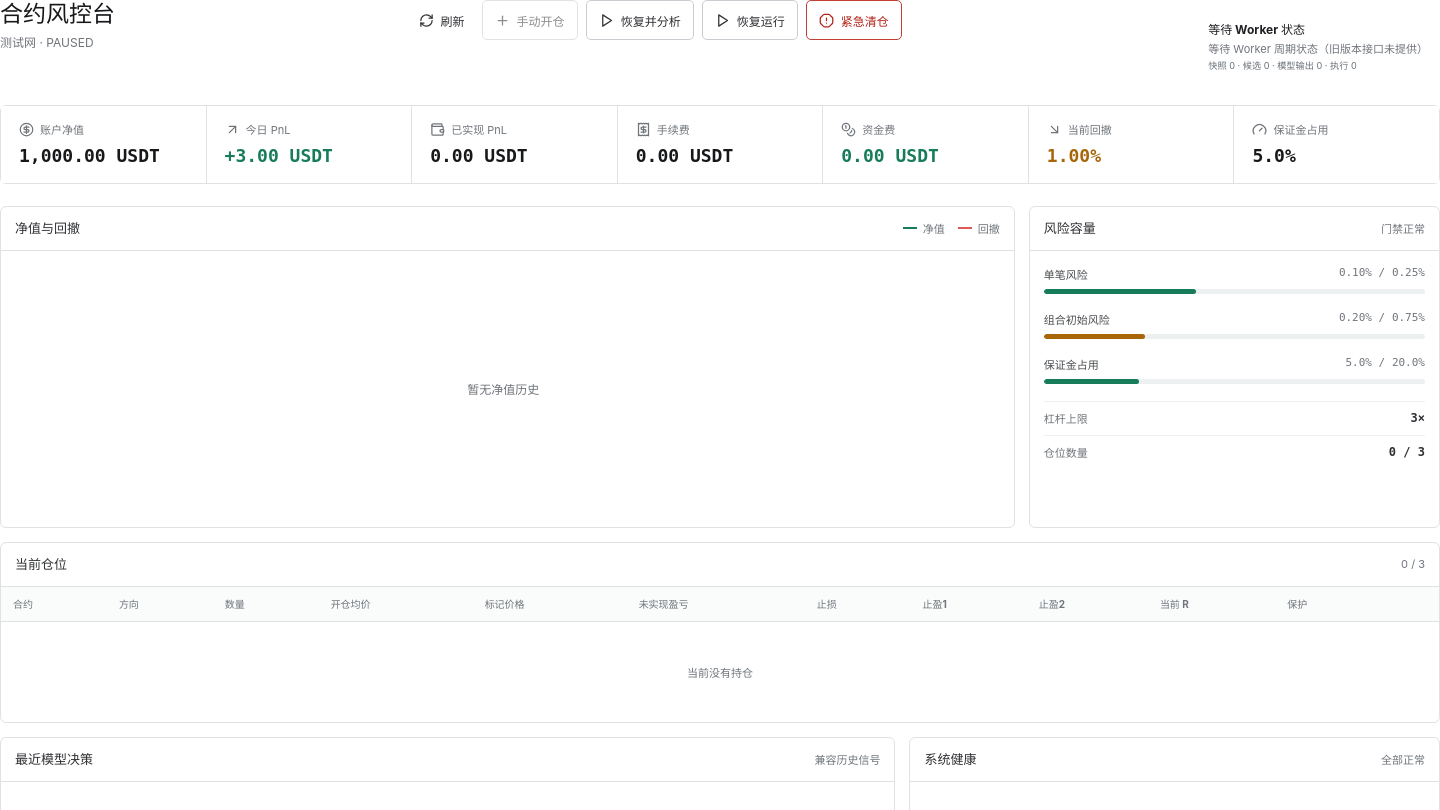
Test: DashboardPage › requires the operator password to resume testnet execution
This screenshot has width=1440, height=810.
Click the button "恢复运行" at (750,20), box [702,0,798,40]
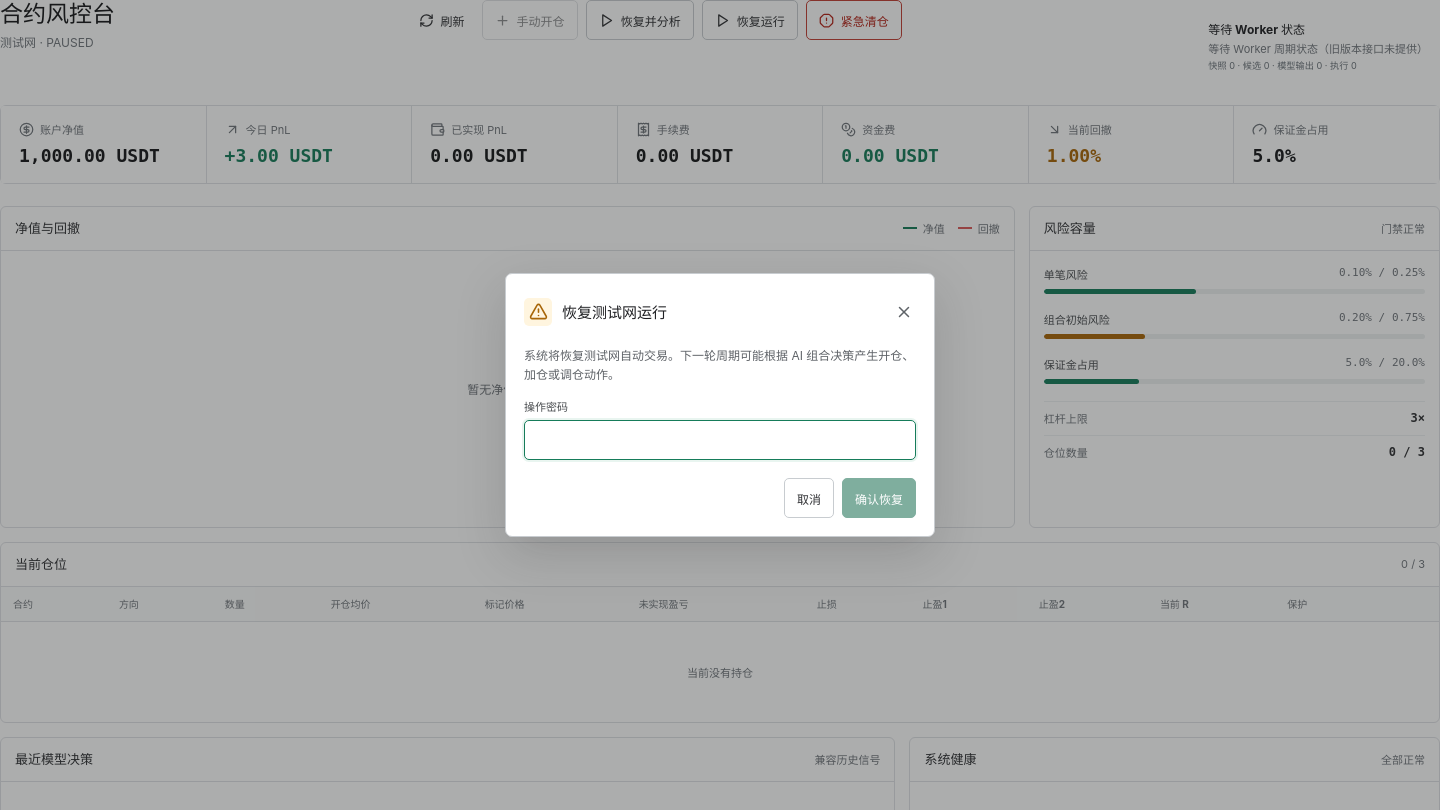
Expected: the dialog "恢复测试网运行" is shown, [505,273,935,537]
Expected: the button "确认恢复" is disabled, [842,478,916,518]
Type "operator-password" into the password field labelled "操作密码" at (720,440), box [524,420,916,460]
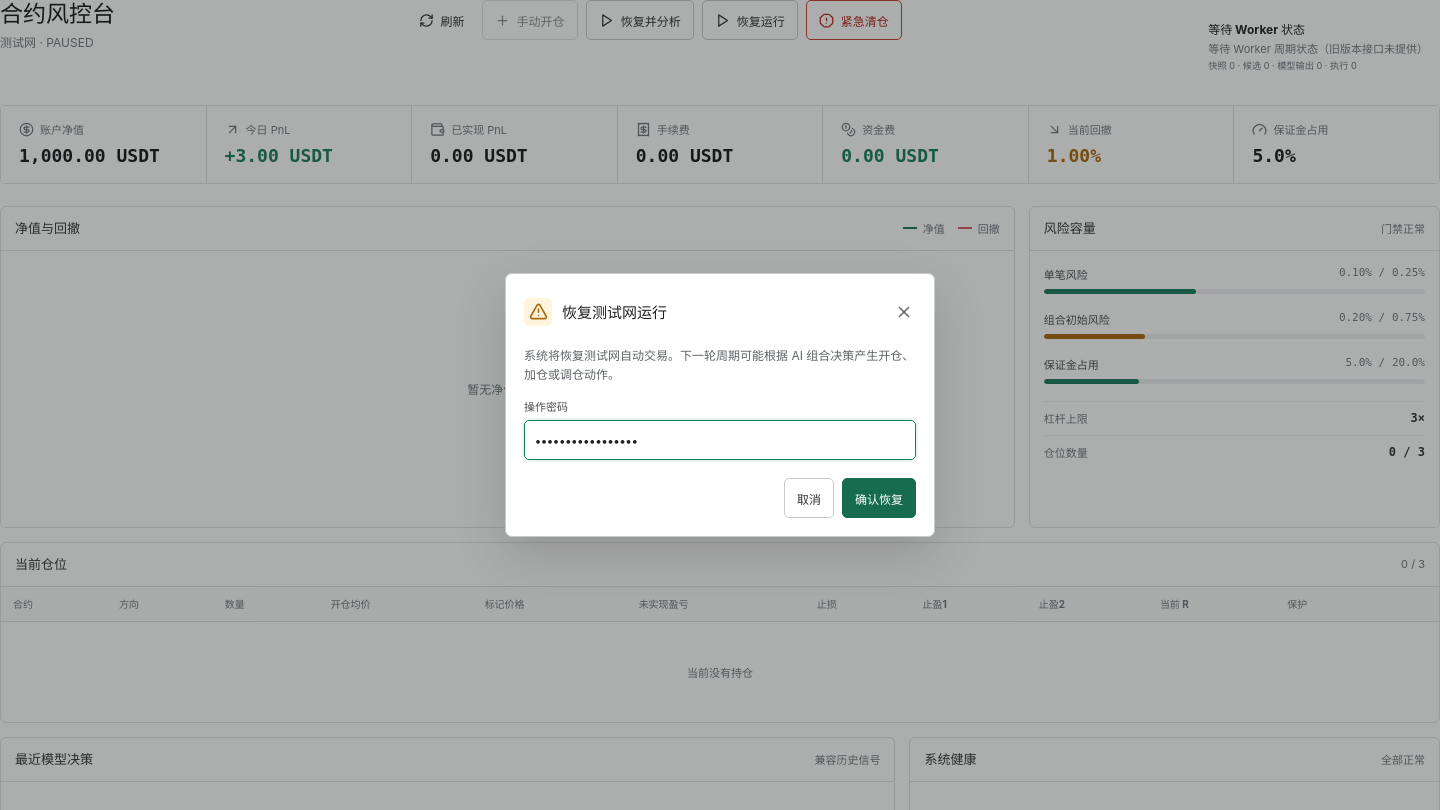
Click the button "确认恢复" at (879,498), box [842,478,916,518]
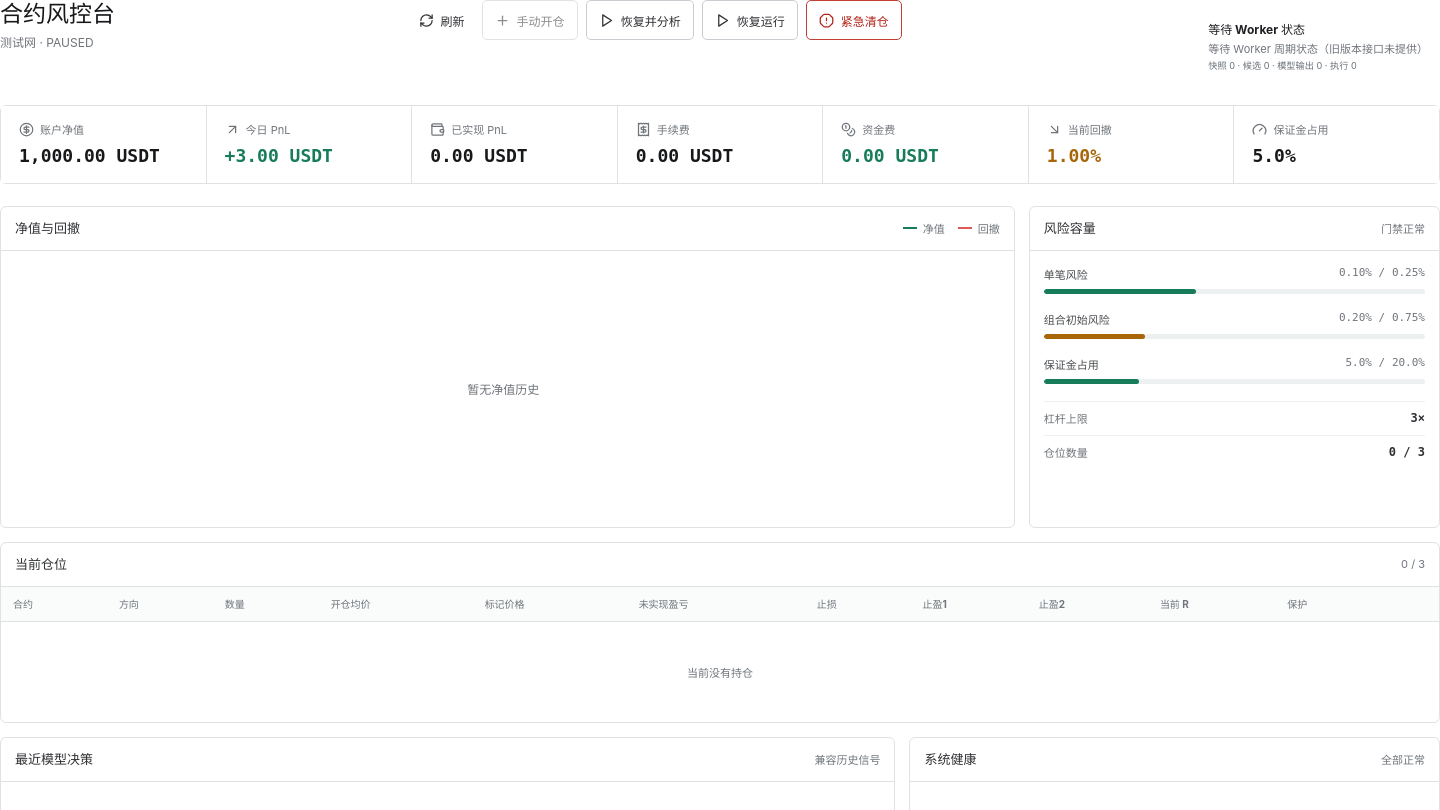
Expected: the heading "恢复测试网运行" is gone
